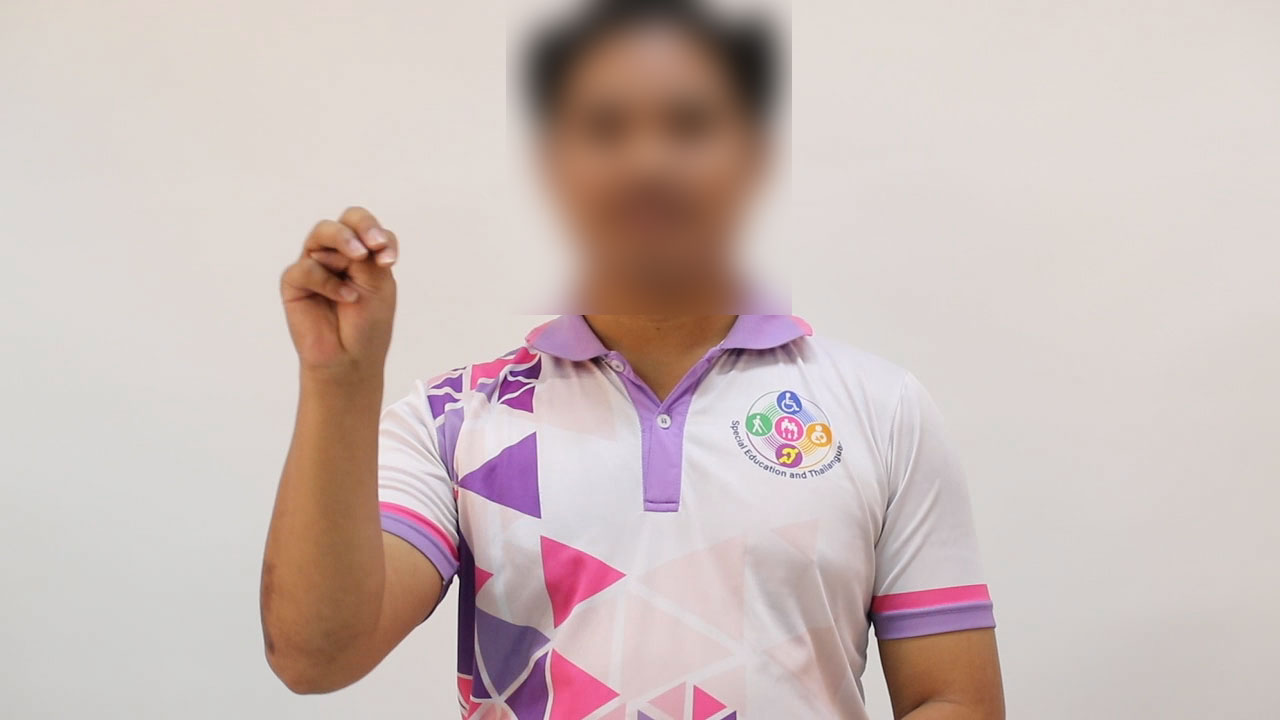mor: (252, 185, 414, 385)
